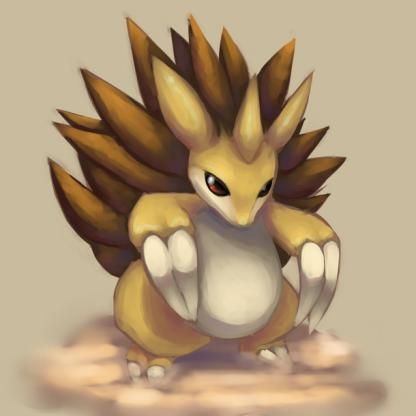Sandslash: (56, 15, 378, 394)
